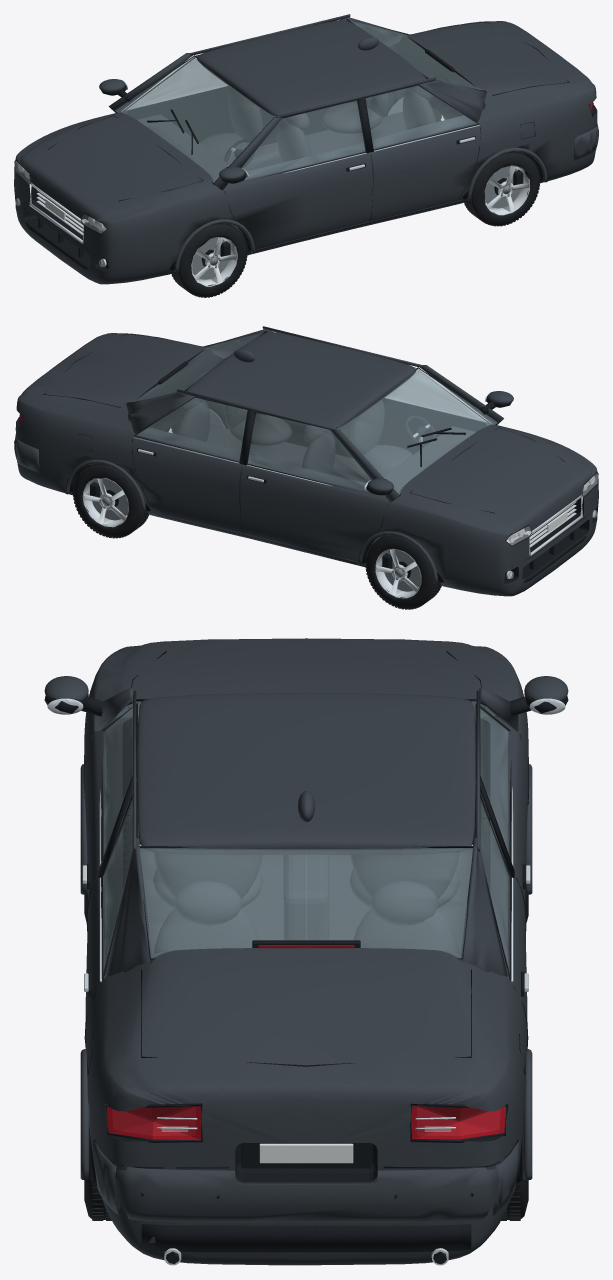
File: sedan.glb
The picture shows the model from 3 angles, top to bottom: view 1: azimuth 30°, elevation 25°; view 2: azimuth 150°, elevation 25°; view 3: azimuth 270°, elevation 25°; orthographic projection. The views are drawn at different scales.
Visible parts, largest first — view 1: Aerodynamic mirror painted cap, Front side door glass, Aerodynamic mirror lower housing, Adjustable headrest, 107 reused Sculpted_tyre, 107 reused Alloy_five_spoke_rim, 107 reused Center_cap, Clear reversing lens insert; view 2: Aerodynamic mirror painted cap, Front side door glass, Aerodynamic mirror lower housing, Adjustable headrest, 107 reused Sculpted_tyre, 107 reused Alloy_five_spoke_rim, 107 reused Center_cap, Clear reversing lens insert; view 3: Aerodynamic mirror painted cap, Front side door glass, Adjustable headrest, Aerodynamic mirror lower housing, Flush corner wrapping ruby lamp lens, 107 reused Sculpted_tyre, 107 reused Alloy_five_spoke_rim, Front license plate.
Boxes of the visible parts, box(x1,y1,x2,y2) form: Aerodynamic mirror painted cap: box(14, 14, 598, 284); Front side door glass: box(115, 20, 481, 184); Aerodynamic mirror lower housing: box(14, 18, 598, 271); Adjustable headrest: box(137, 85, 435, 239); 107 reused Sculpted_tyre: box(171, 88, 540, 297); 107 reused Alloy_five_spoke_rim: box(17, 79, 529, 286); 107 reused Center_cap: box(192, 98, 530, 279); Clear reversing lens insert: box(15, 161, 106, 266); Aerodynamic mirror painted cap: box(14, 326, 598, 596); Front side door glass: box(132, 332, 497, 496); Aerodynamic mirror lower housing: box(14, 330, 598, 583); Adjustable headrest: box(177, 397, 475, 543); 107 reused Sculpted_tyre: box(73, 400, 441, 609); 107 reused Alloy_five_spoke_rim: box(82, 391, 595, 598); 107 reused Center_cap: box(82, 410, 420, 591); Clear reversing lens insert: box(506, 473, 597, 578); Aerodynamic mirror painted cap: box(44, 638, 568, 1265); Front side door glass: box(103, 701, 509, 975); Adjustable headrest: box(136, 781, 476, 954); Aerodynamic mirror lower housing: box(44, 651, 568, 1264); Flush corner wrapping ruby lamp lens: box(106, 945, 506, 1140); 107 reused Sculpted_tyre: box(84, 793, 528, 1220); 107 reused Alloy_five_spoke_rim: box(47, 698, 565, 1265); Front license plate: box(259, 1143, 353, 1163).
Size of the model in its own units: 4.84 by 1.55 by 2.17.
10 materials, 10 textured.
